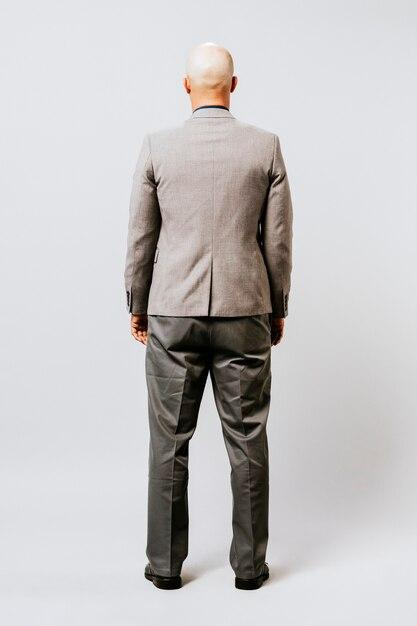Human: (95, 29, 313, 605)
